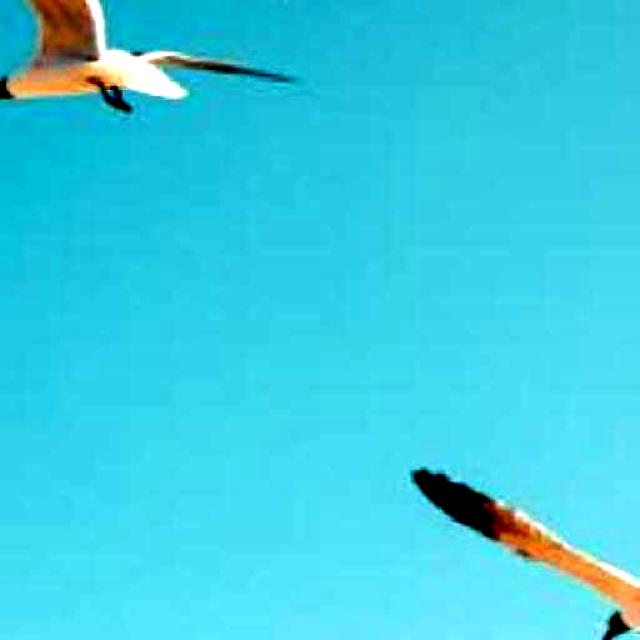airplane: (411, 466, 640, 640), (0, 0, 302, 114)
